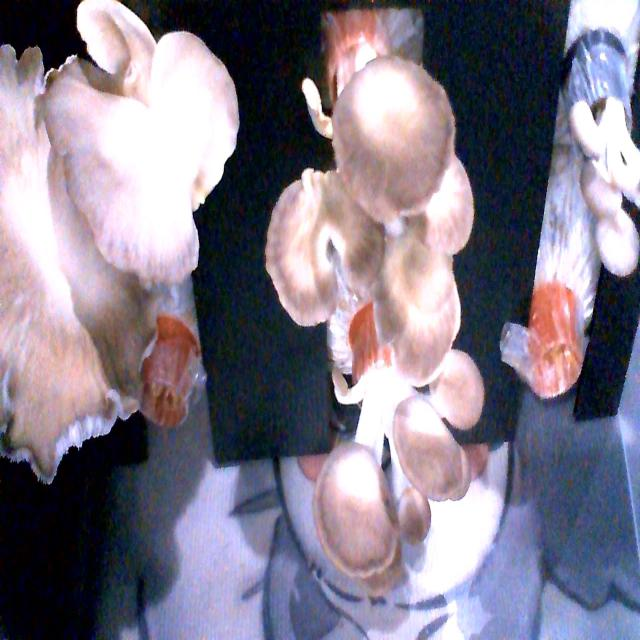big: (0, 32, 254, 415), (278, 34, 466, 383), (320, 319, 487, 602), (560, 70, 640, 289)
nfound: (518, 301, 596, 422), (143, 350, 192, 465)
